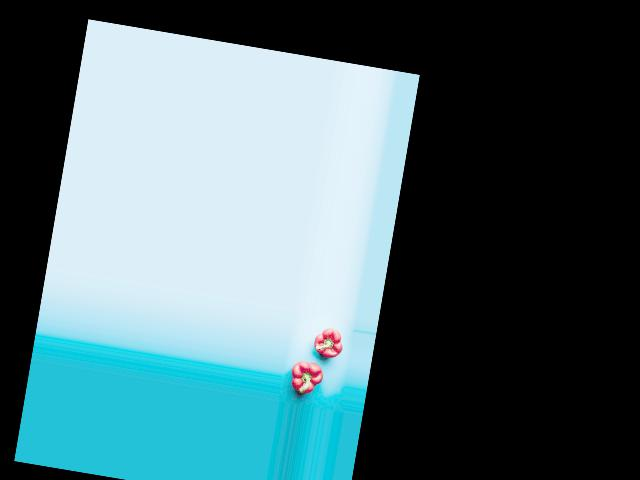bell_pepper: (288, 353, 329, 400)
